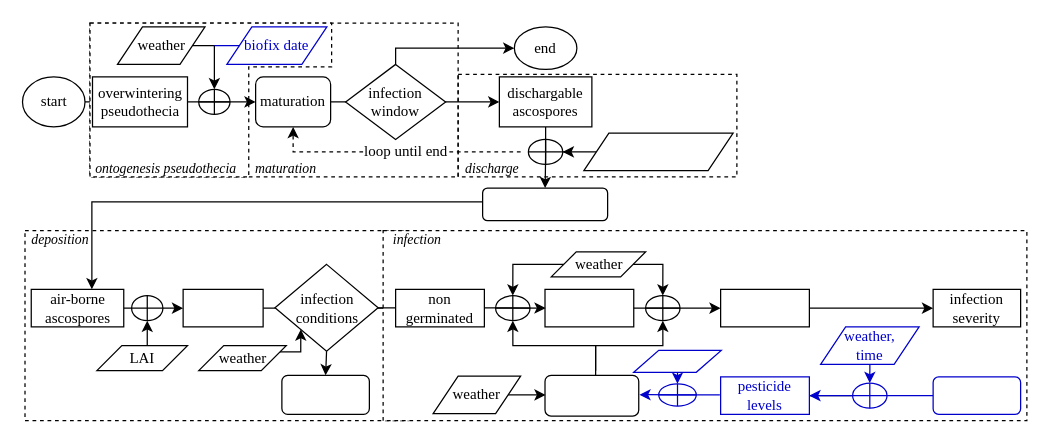
Image size: 1049x443. Some labels were removed from this diagram. Each missing label, with the centre of its shape:
ascospores on leaves: point (222, 307)
discharge event: point (544, 204)
efficacy: point (676, 360)
germinated: point (589, 307)
mortality: point (591, 395)
no infection: point (325, 394)
pesticide application: point (976, 395)
weather, recovery period: point (658, 151)
with appresorium: point (764, 307)
